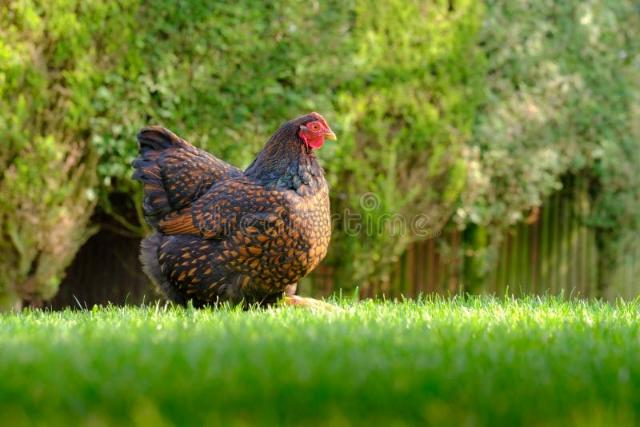Chicken: (132, 110, 346, 313)
